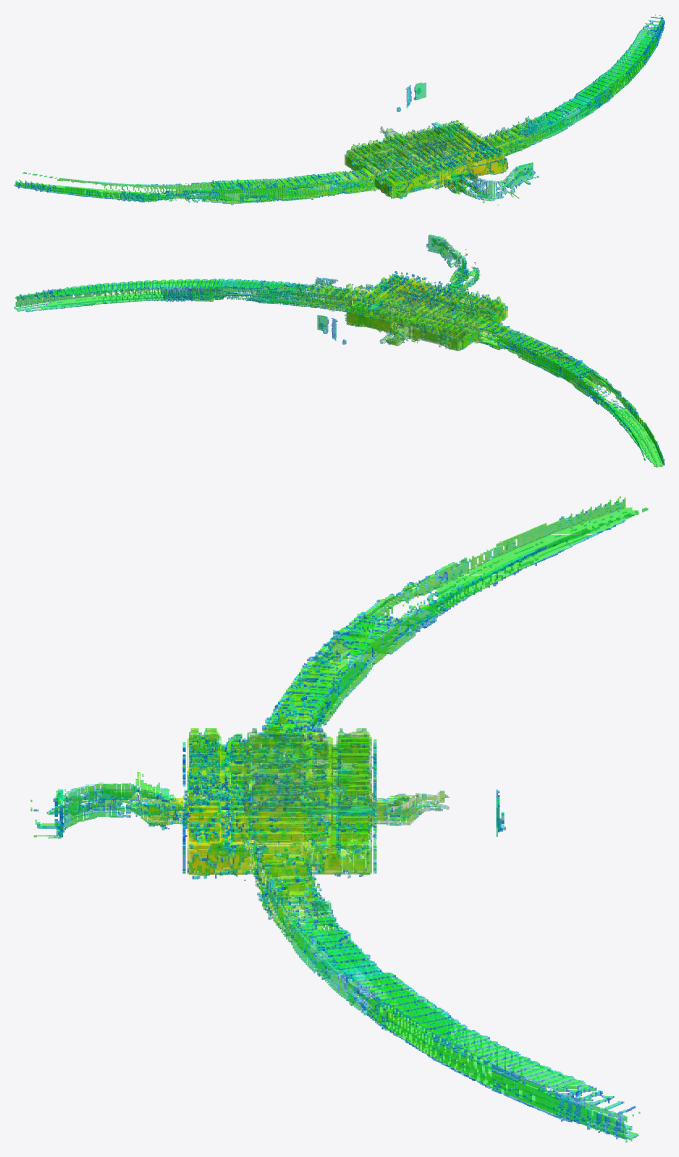
The model's file is subway_out.glb.
3 renders of one model, top to bottom at view 1: azimuth 30°, elevation 25°; view 2: azimuth 150°, elevation 25°; view 3: azimuth 270°, elevation 25°, orthographic. The views are drawn at different scales.
Visible parts, largest first — view 1: chunk:8, chunk:7, chunk:4, chunk:11, chunk:3, chunk:14, chunk:0, chunk:15, chunk:12, chunk:16, chunk:10; view 2: chunk:7, chunk:8, chunk:11, chunk:14, chunk:4, chunk:15, chunk:3, chunk:0, chunk:12, chunk:16, chunk:17; view 3: chunk:7, chunk:11, chunk:8, chunk:14, chunk:15, chunk:3, chunk:0, chunk:4, chunk:12, chunk:16, chunk:17.
Part boxes in pixels (<box>): chunk:8: <box>378,146,517,202</box>; chunk:7: <box>346,122,464,191</box>; chunk:4: <box>260,154,376,201</box>; chunk:11: <box>435,116,545,165</box>; chunk:3: <box>148,179,271,204</box>; chunk:14: <box>534,78,611,138</box>; chunk:0: <box>14,172,144,201</box>; chunk:15: <box>604,25,657,83</box>; chunk:12: <box>469,142,538,191</box>; chunk:16: <box>598,66,633,98</box>; chunk:10: <box>405,82,426,107</box>; chunk:7: <box>369,286,491,350</box>; chunk:8: <box>404,243,505,325</box>; chunk:11: <box>289,277,401,328</box>; chunk:14: <box>175,278,299,304</box>; chunk:4: <box>462,317,563,374</box>; chunk:15: <box>42,281,162,310</box>; chunk:3: <box>552,352,625,412</box>; chunk:0: <box>612,408,664,467</box>; chunk:12: <box>376,234,448,304</box>; chunk:16: <box>134,279,185,301</box>; chunk:17: <box>14,289,53,311</box>; chunk:7: <box>244,728,449,854</box>; chunk:11: <box>244,810,376,942</box>; chunk:8: <box>37,728,243,851</box>; chunk:14: <box>291,918,436,1032</box>; chunk:15: <box>451,1016,607,1119</box>; chunk:3: <box>314,576,450,682</box>; chunk:0: <box>451,496,648,596</box>; chunk:4: <box>244,655,368,769</box>; chunk:12: <box>37,789,243,879</box>; chunk:16: <box>389,1005,450,1068</box>; chunk:17: <box>559,1093,640,1142</box>.
Size of the model in its own units: 185 by 10.6 by 76.4.
Materials: 19 (18 with a texture image).
